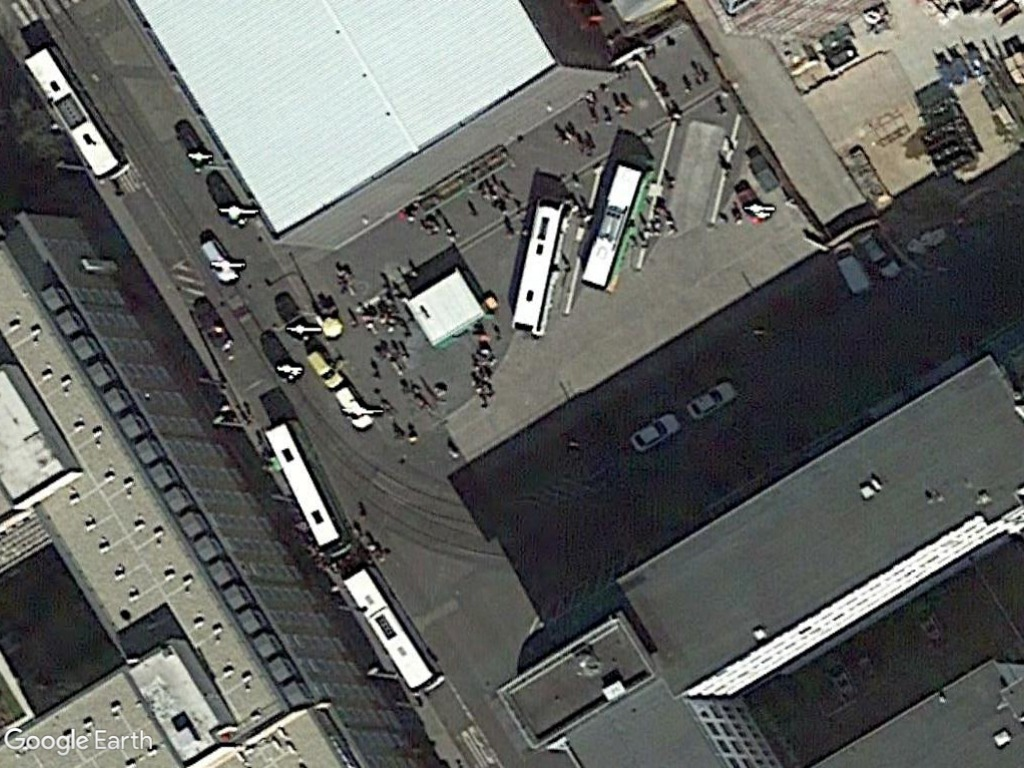bus: (17, 42, 131, 185), (336, 566, 447, 698), (259, 419, 352, 558), (573, 156, 649, 292), (509, 192, 573, 339)
car: (683, 377, 739, 423), (627, 410, 682, 453), (857, 232, 904, 280)
van: (830, 240, 876, 297)
